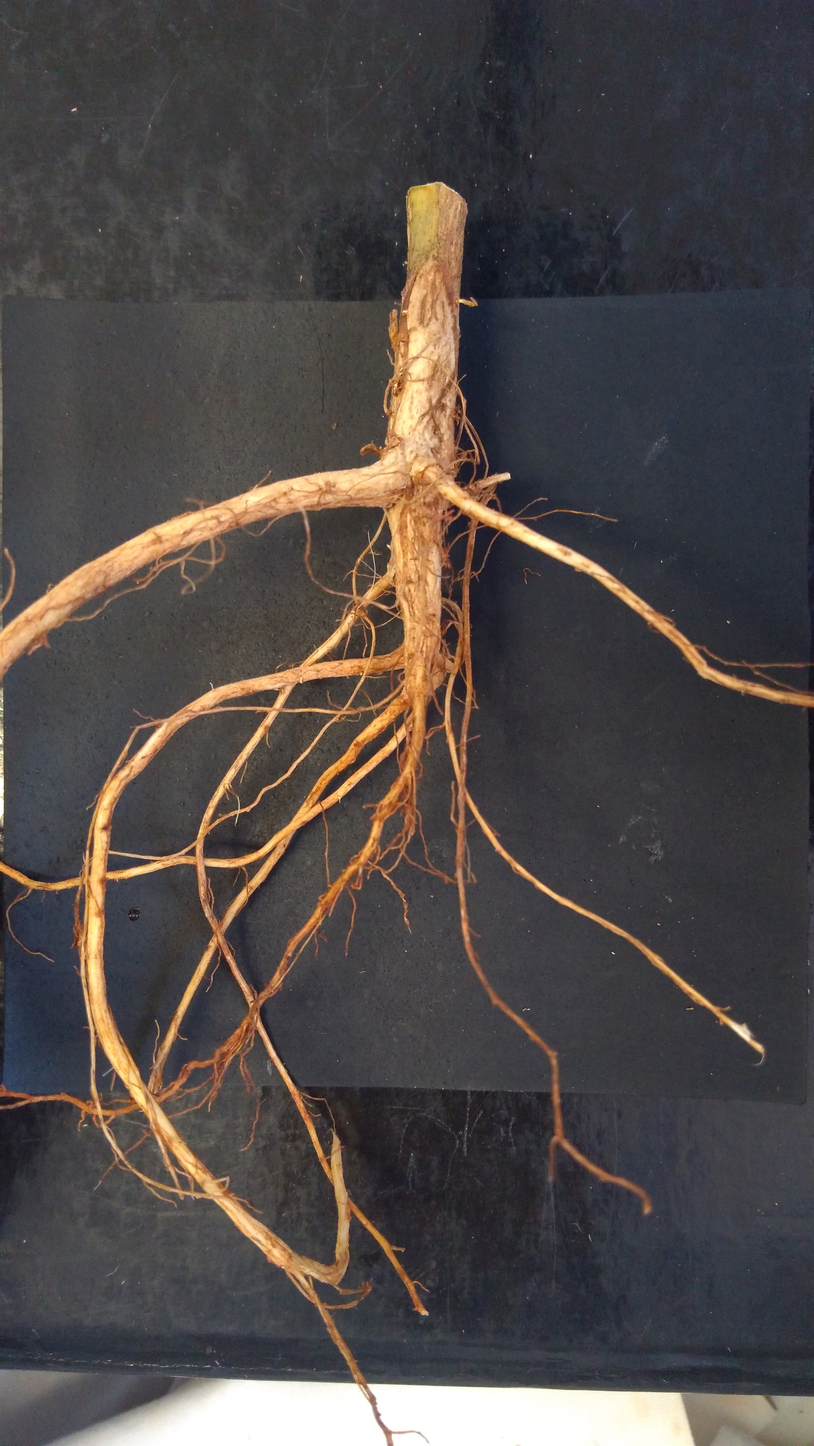nodule: (359, 442, 376, 458)
